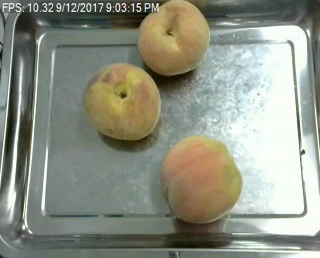Peach: (160, 134, 243, 225), (83, 61, 165, 141), (137, 0, 209, 77)
